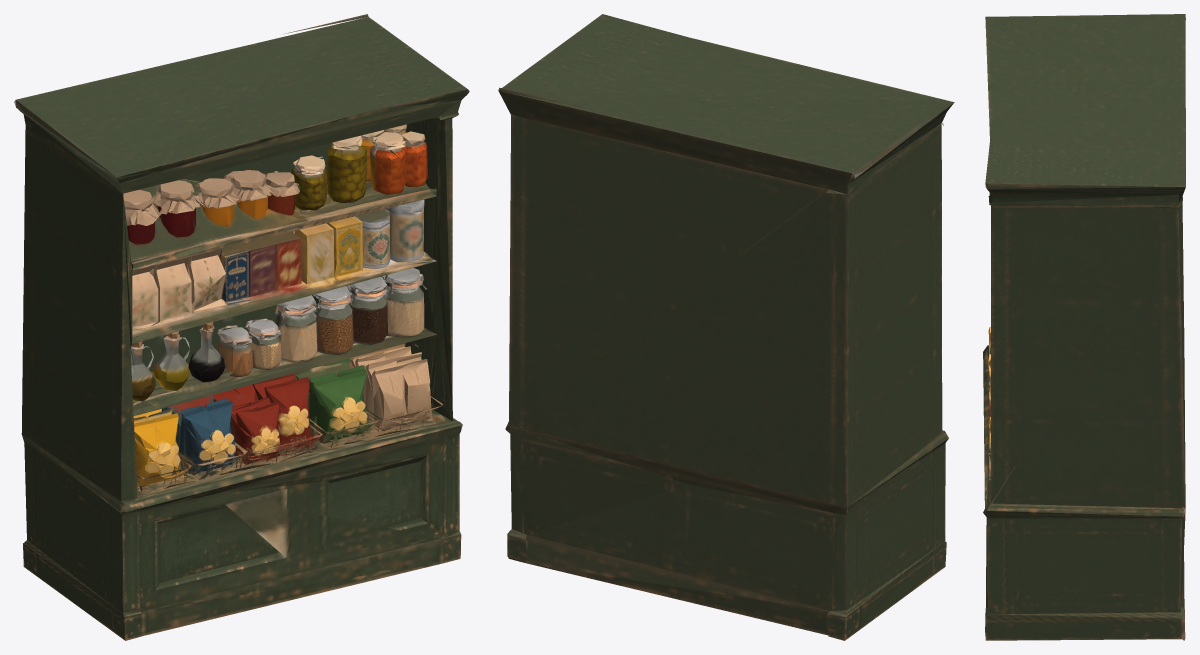
File: stock.glb
The picture shows the model from 3 angles, left to right: view 1: azimuth 30°, elevation 25°; view 2: azimuth 150°, elevation 25°; view 3: azimuth 270°, elevation 25°; orthographic projection.
Visible parts, largest first — view 1: Mesh_0; view 2: Mesh_0; view 3: Mesh_0.
Boxes of the visible parts, x1,y1,x2,y2 form: Mesh_0: (14, 14, 469, 640); Mesh_0: (498, 14, 954, 640); Mesh_0: (983, 14, 1185, 640).
Size of the model in its own units: 1.5 by 1.9 by 0.7548.
1 material, 1 textured.
